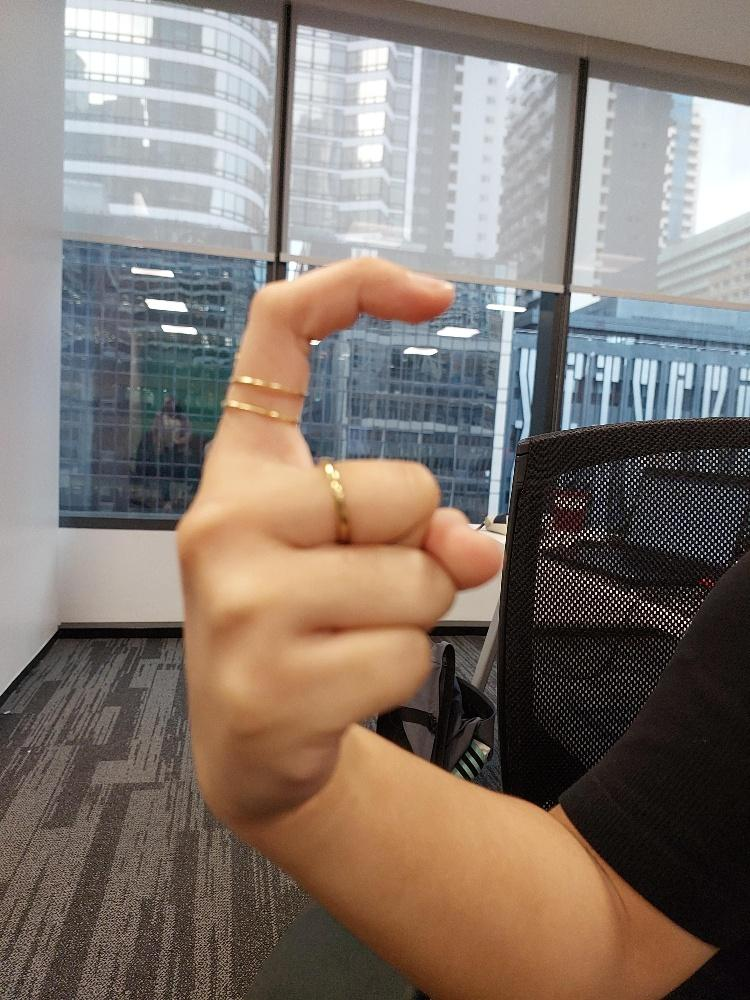x: (169, 251, 509, 830)
